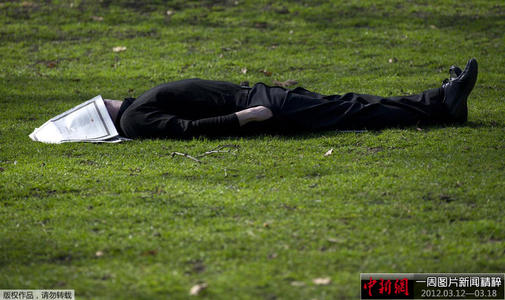fall: (103, 63, 467, 146)
